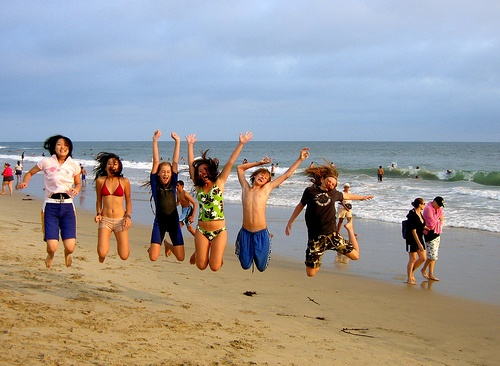head: (195, 158, 218, 185), (317, 167, 341, 192), (252, 167, 276, 191), (155, 157, 174, 185), (53, 137, 74, 160), (103, 154, 123, 178), (431, 192, 449, 213), (409, 194, 427, 215)
person: (232, 141, 309, 273), (13, 134, 82, 268), (185, 127, 249, 271), (284, 160, 362, 274), (144, 129, 185, 263), (92, 155, 132, 260), (335, 183, 370, 261), (402, 197, 426, 284), (419, 195, 443, 280), (1, 161, 14, 193), (13, 160, 22, 188), (376, 164, 385, 184)
